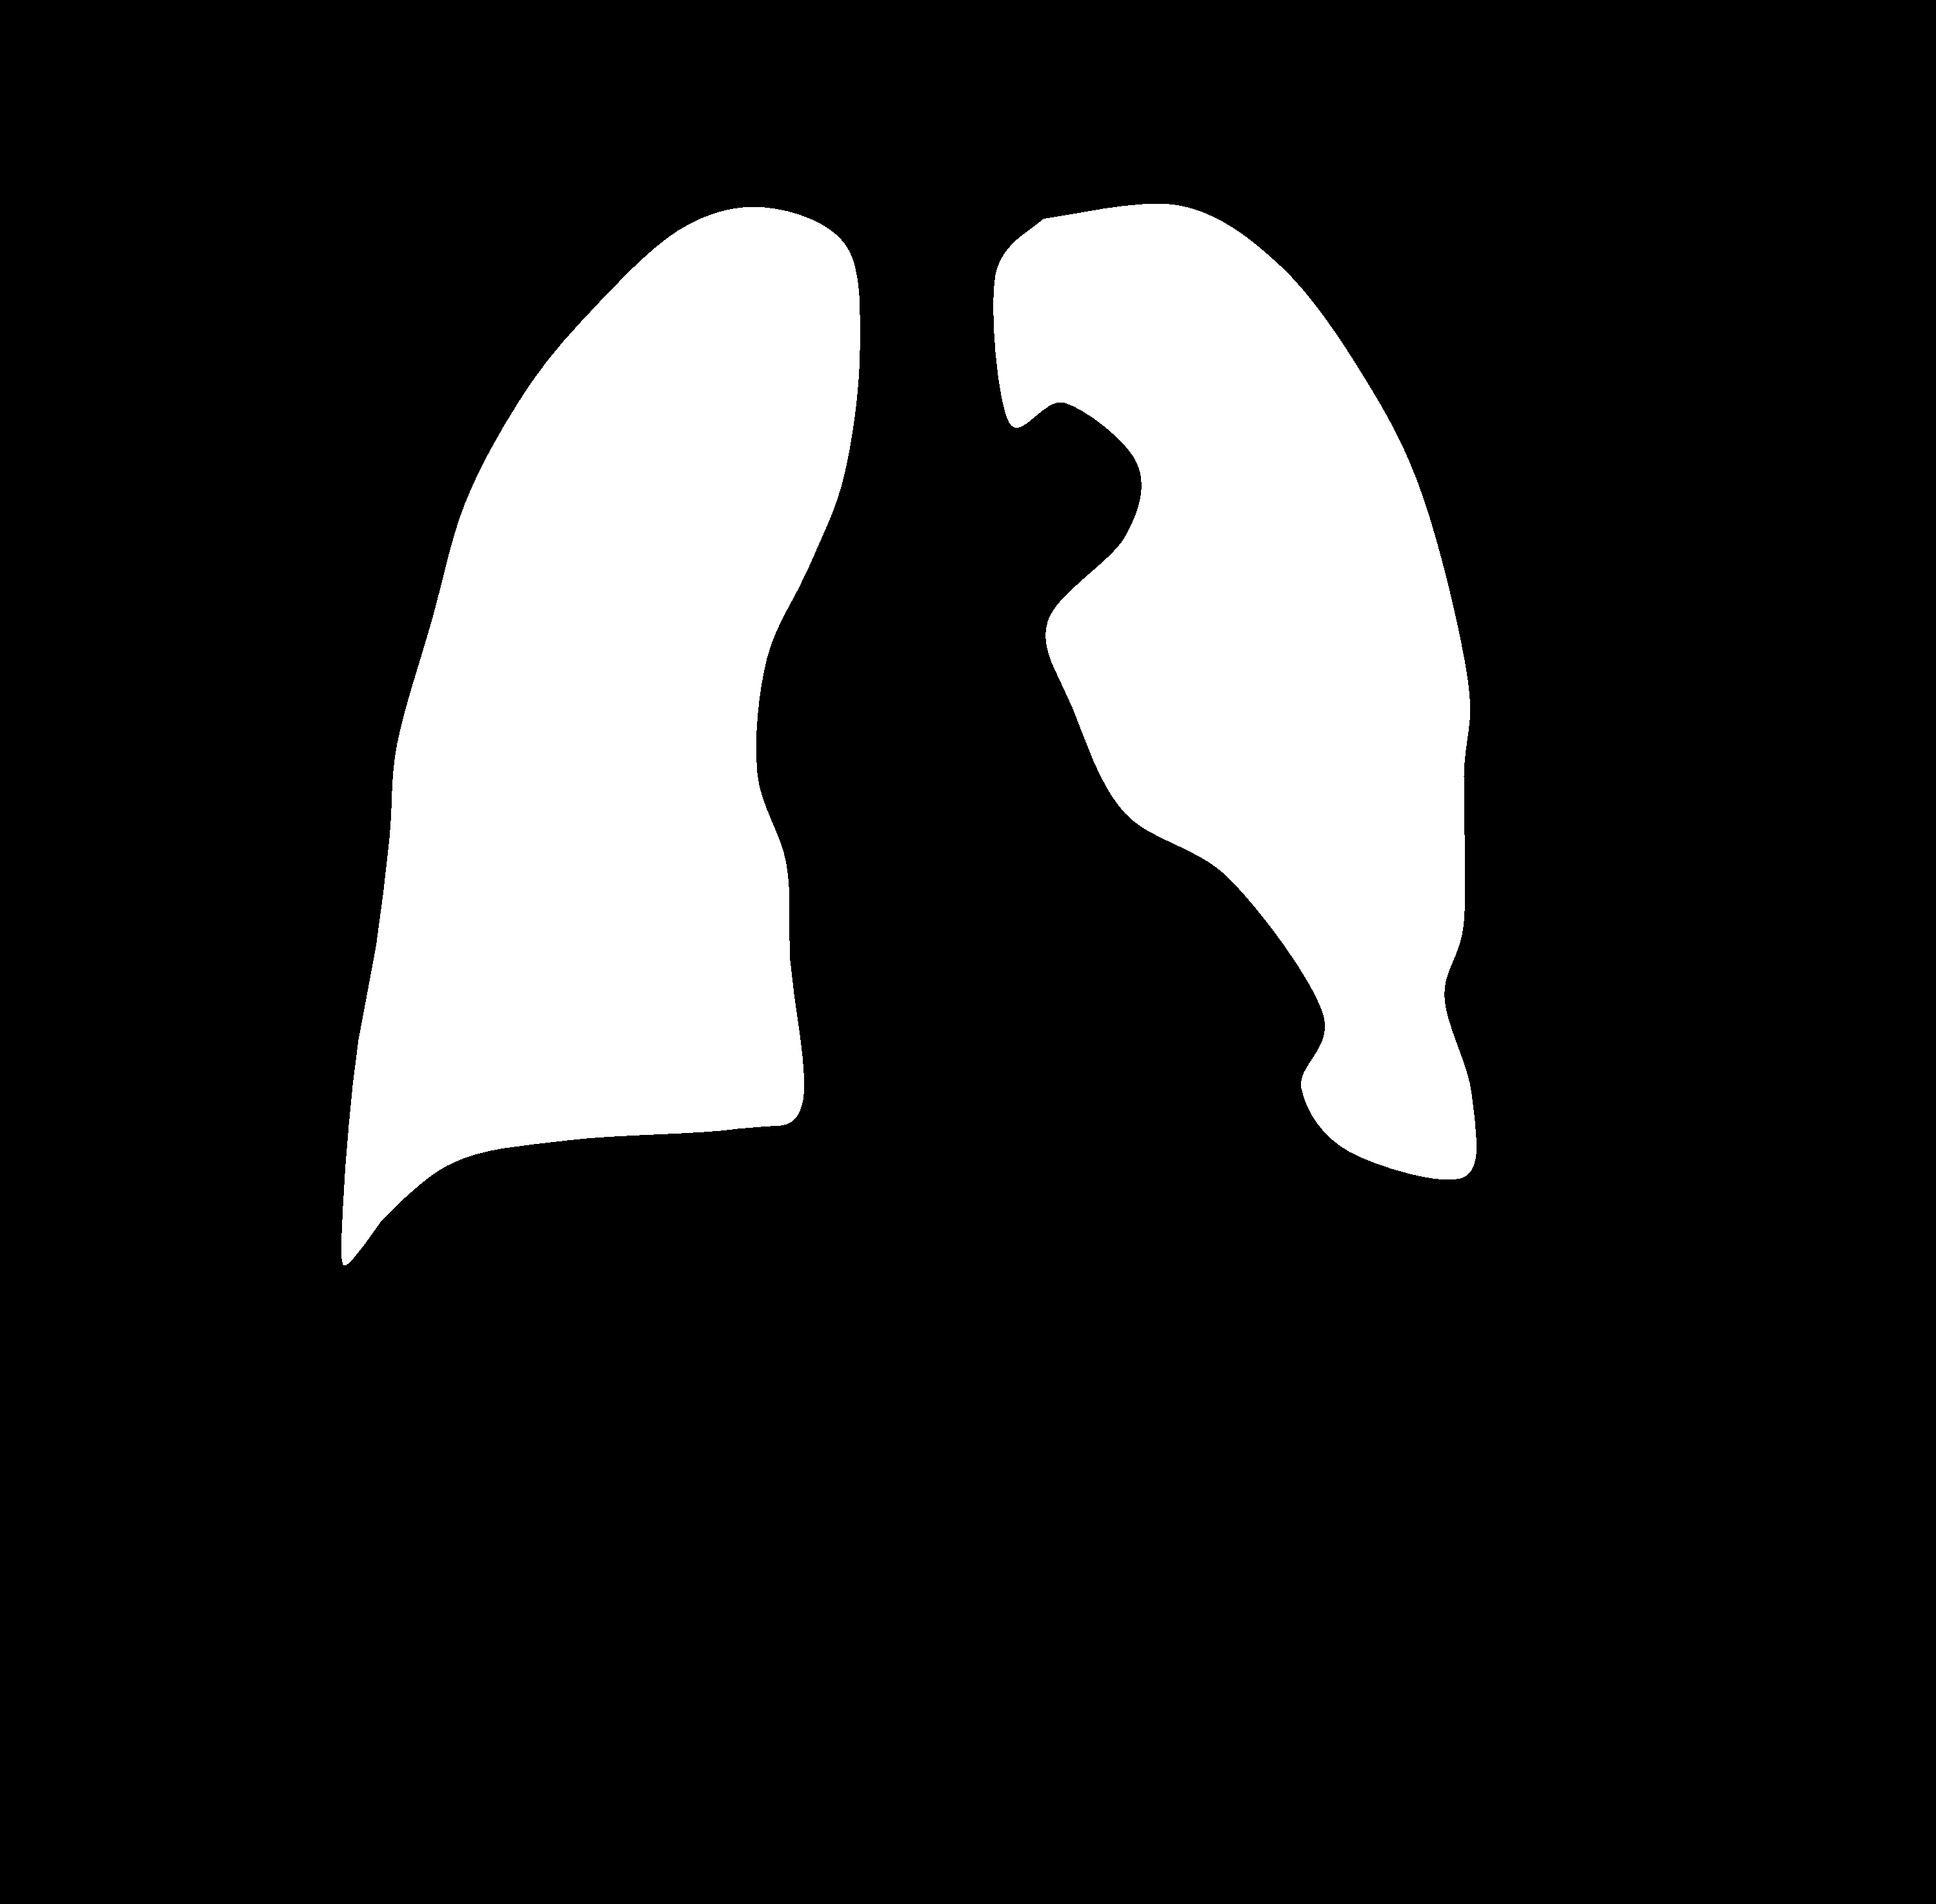heart: (783, 856, 1333, 1200)
left_lung: (342, 207, 860, 1264)
right_lung: (992, 204, 1491, 1198)
